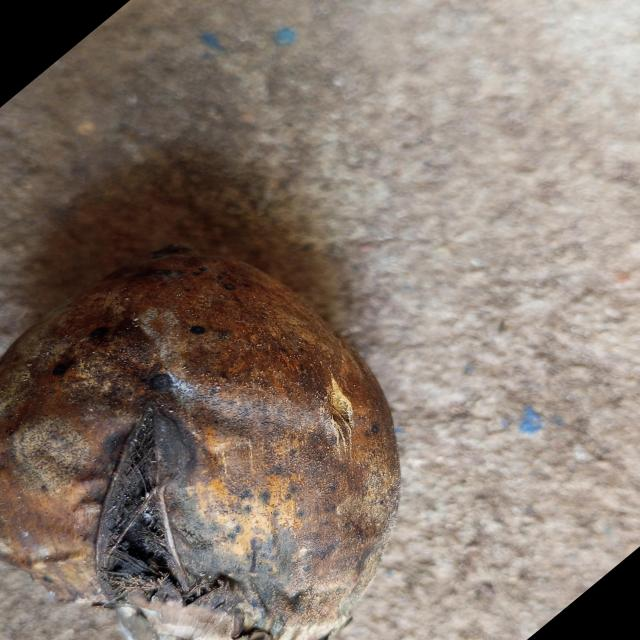damaged: (1, 254, 400, 640)
